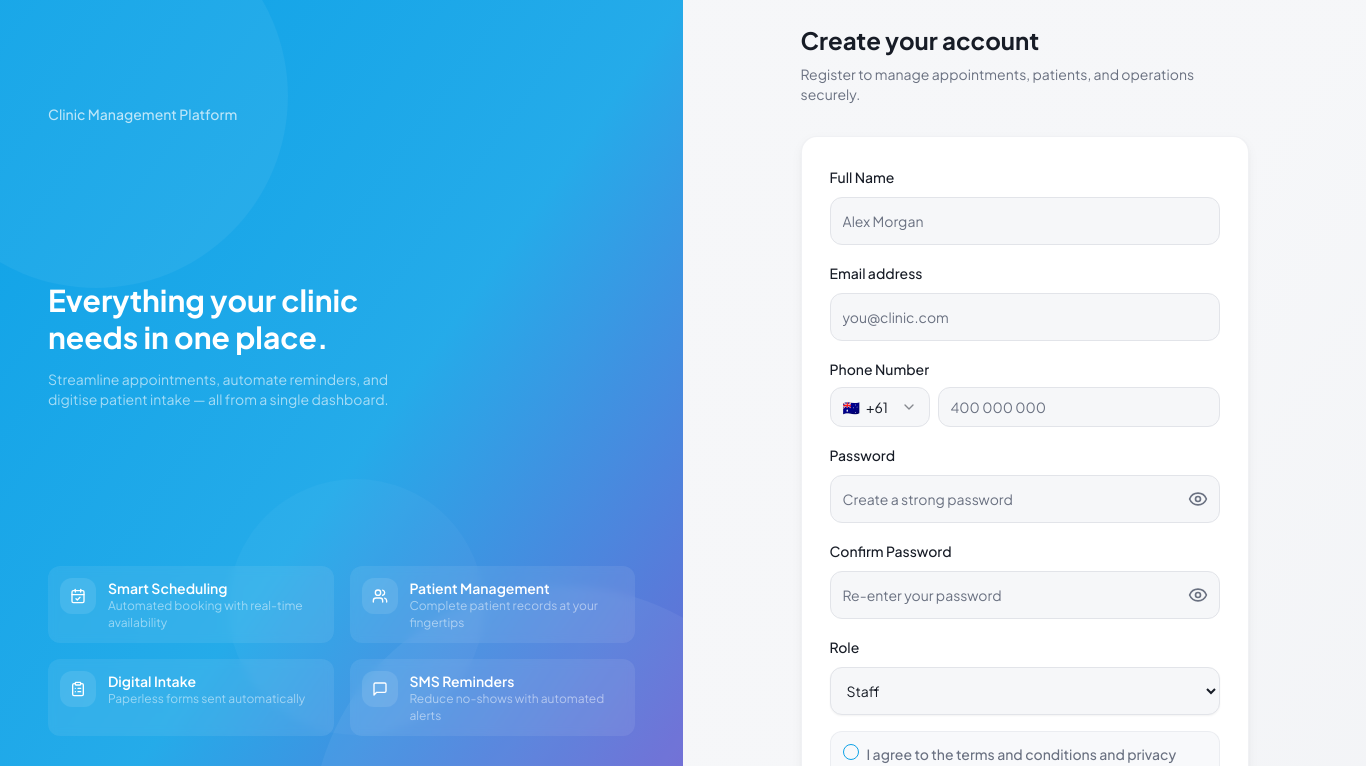
Test: Register › shows a password mismatch validation error
Type "Jane Doe" into the field labelled "Full Name" at coordinates (1024, 221), box [830, 197, 1220, 245]
Type "jane@example.com" into the field labelled "Email address" at coordinates (1024, 317), box [830, 293, 1220, 341]
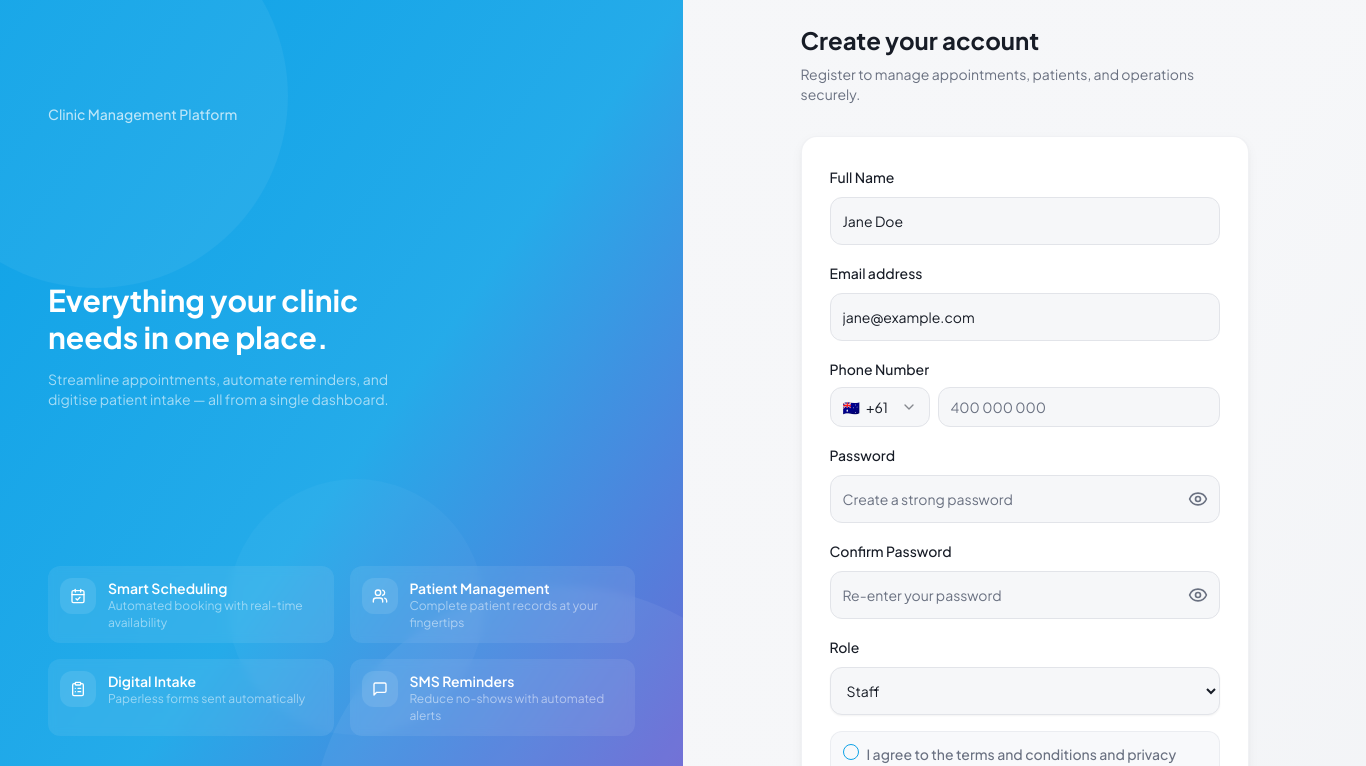
Type "+61400000000" into the field labelled "Phone Number" at coordinates (1078, 407), box [938, 387, 1220, 427]
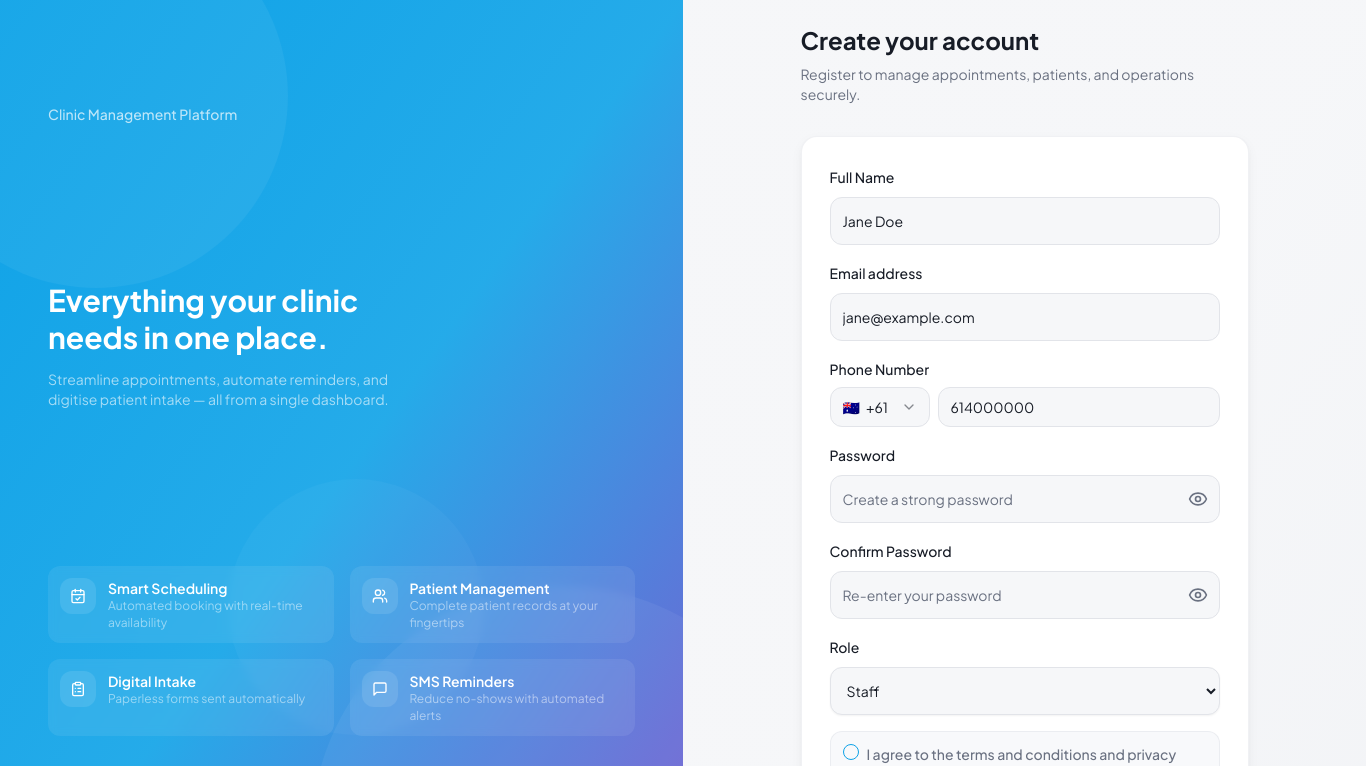
Type "Password123!" into the password field labelled "Password" at coordinates (1024, 499), box [830, 475, 1220, 523]
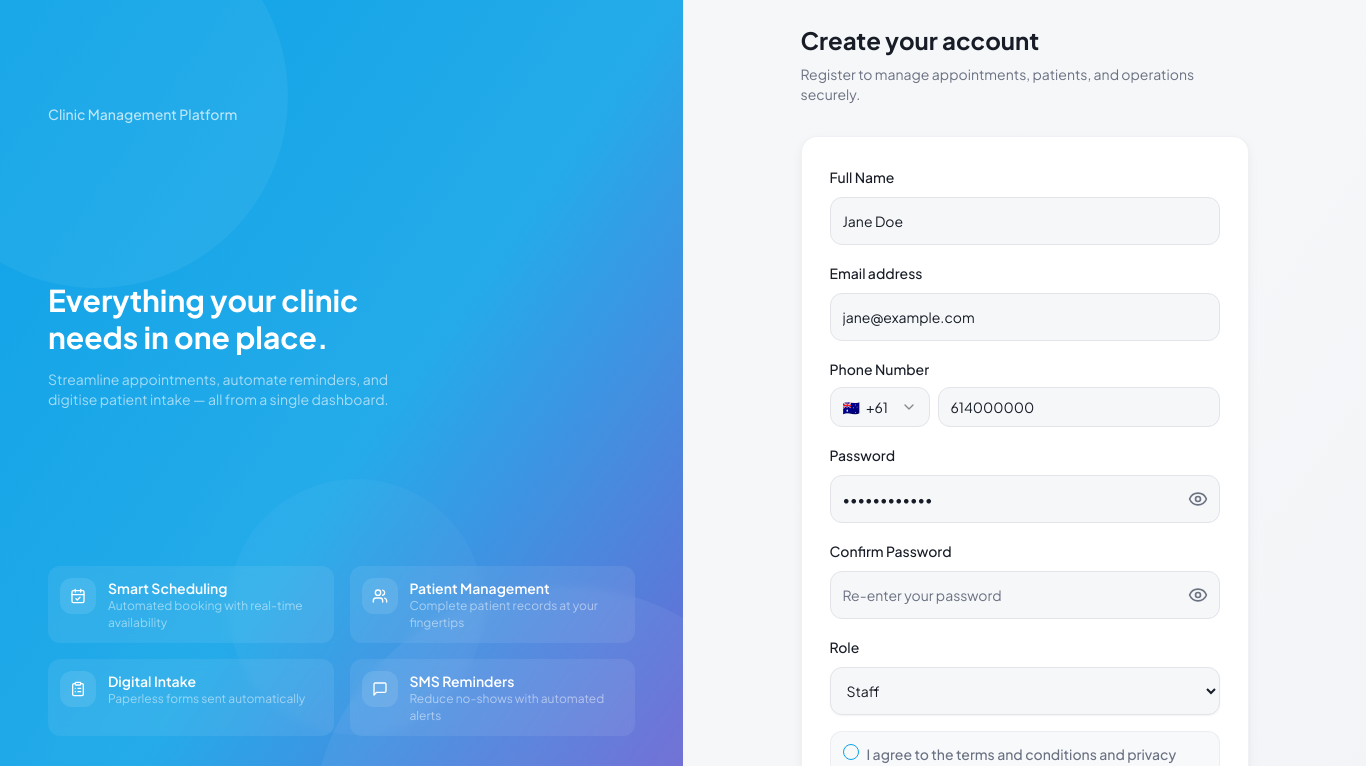
Type "Different123!" into the password field labelled "Confirm Password" at coordinates (1024, 595), box [830, 571, 1220, 619]
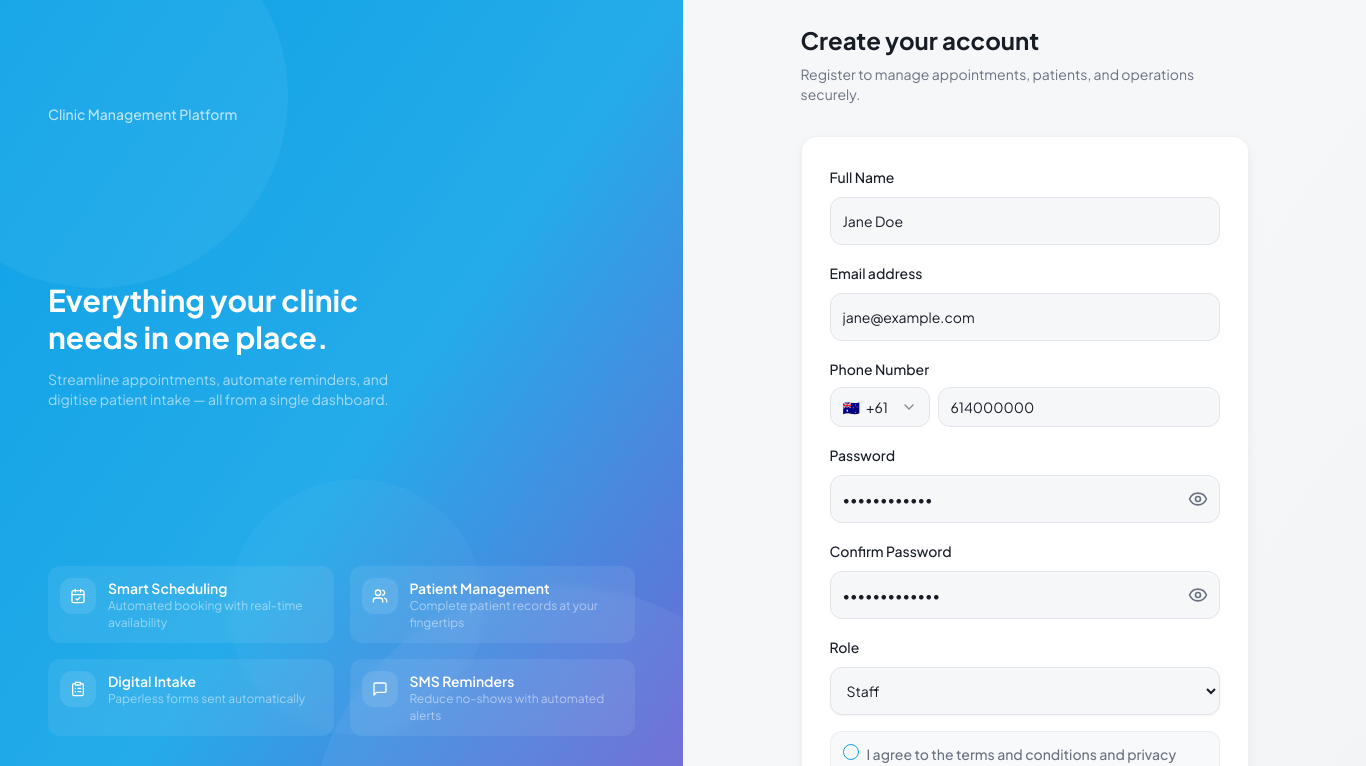
Click the checkbox named "i agree to the terms" at coordinates (850, 752), box [842, 744, 858, 760]
(page scrolled)
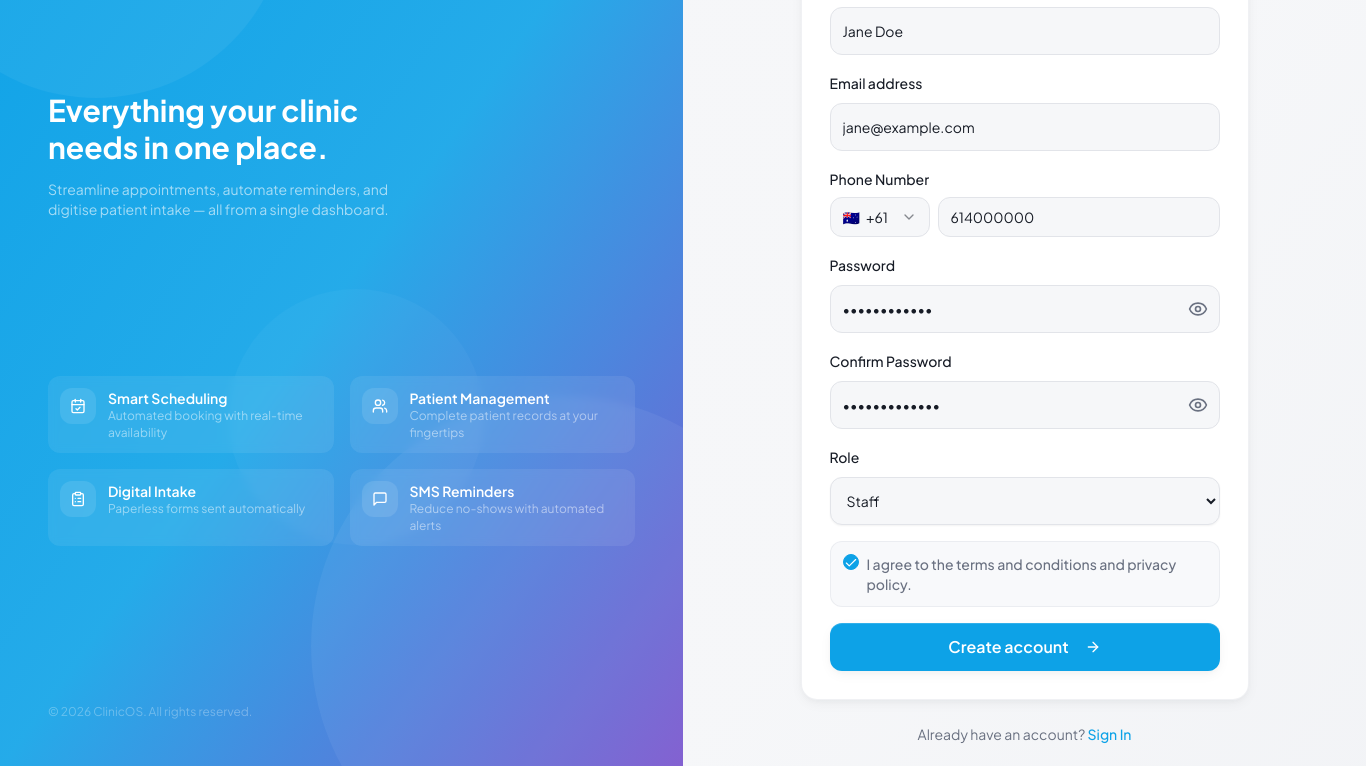
Click the button "Create account" at coordinates (1024, 647), box [830, 623, 1220, 671]
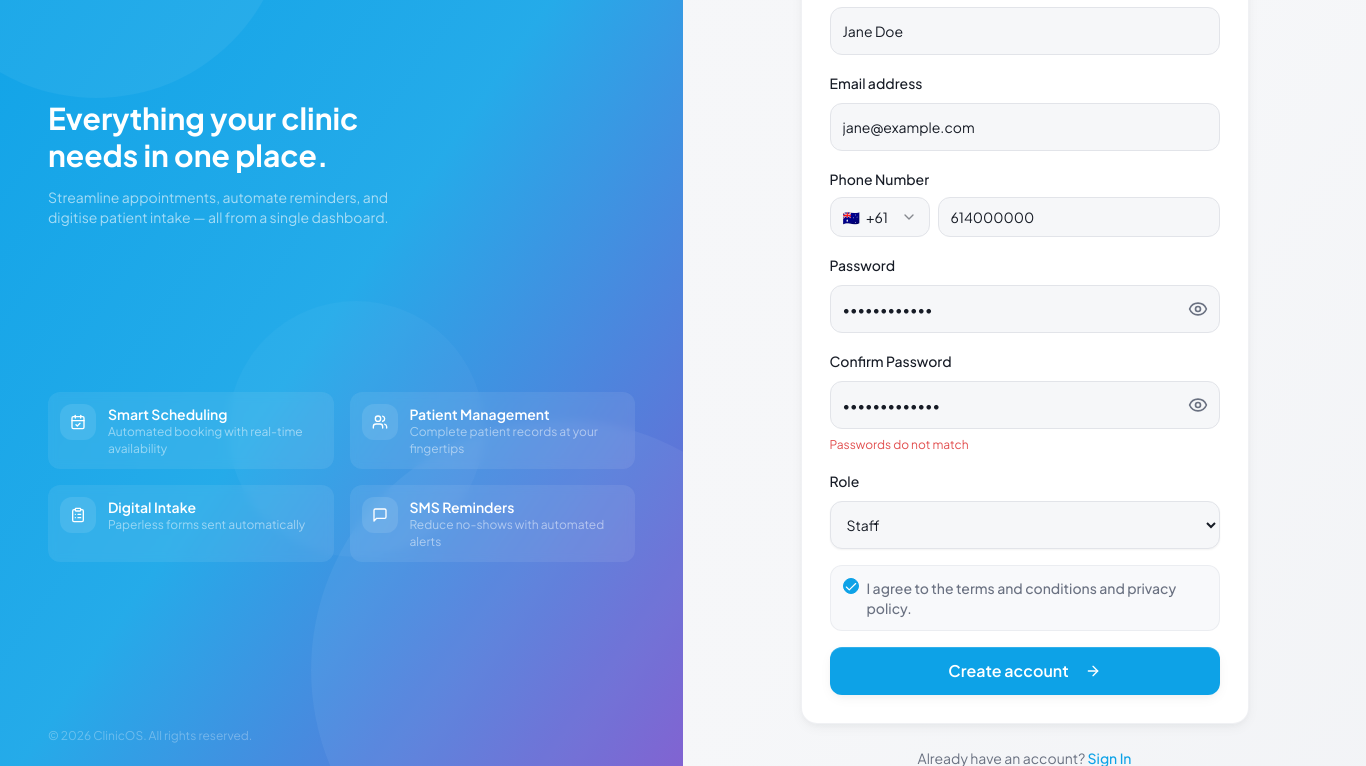
Now the text "Passwords do not match" is shown, box [830, 437, 969, 452]
